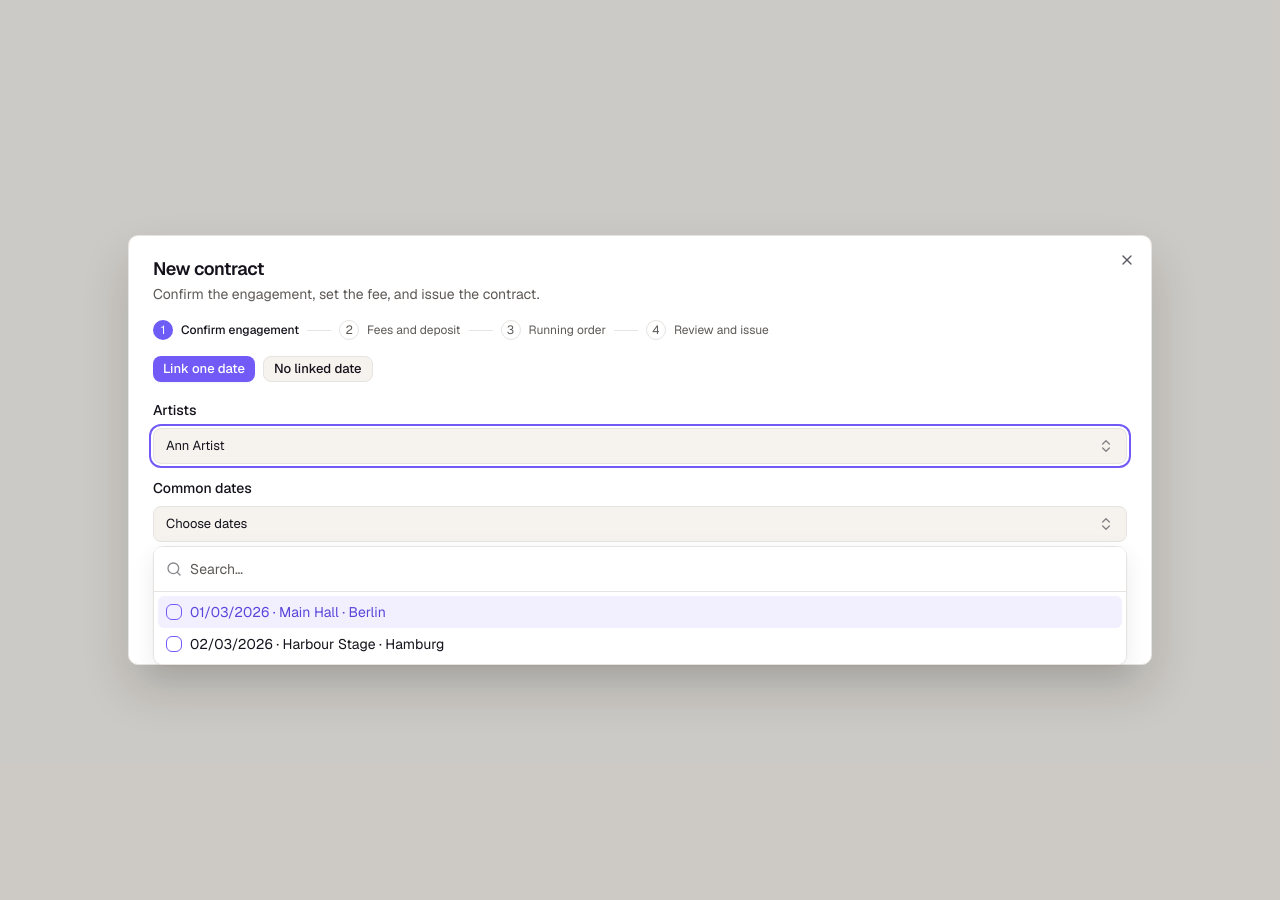
NewOrderWizard › walks a linked artist+date through to review, then saves a draft with the right payload
This screenshot has width=1280, height=900.
Earlier steps of the test are not shown.
Later steps or results of the test are not shown.
Step 1. Click the option "01/03/2026 · Main Hall · Berlin" → (288, 612), box [158,596,1122,628]
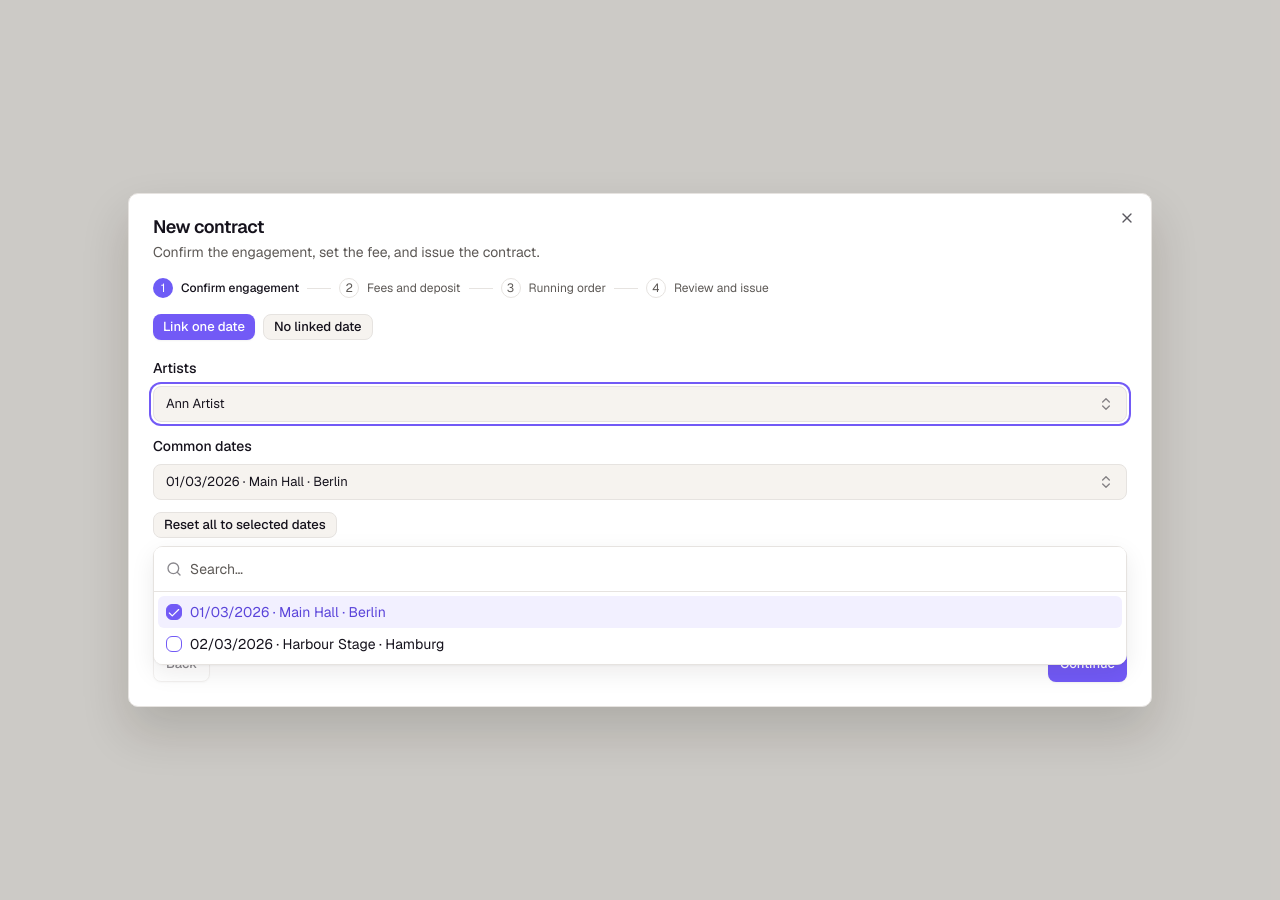
Step 2. Click the dropdown named "select date" → (257, 482), box [153,464,1127,500]
Step 3. Click the button "Reset all to selected dates" → (245, 525), box [153,512,337,538]
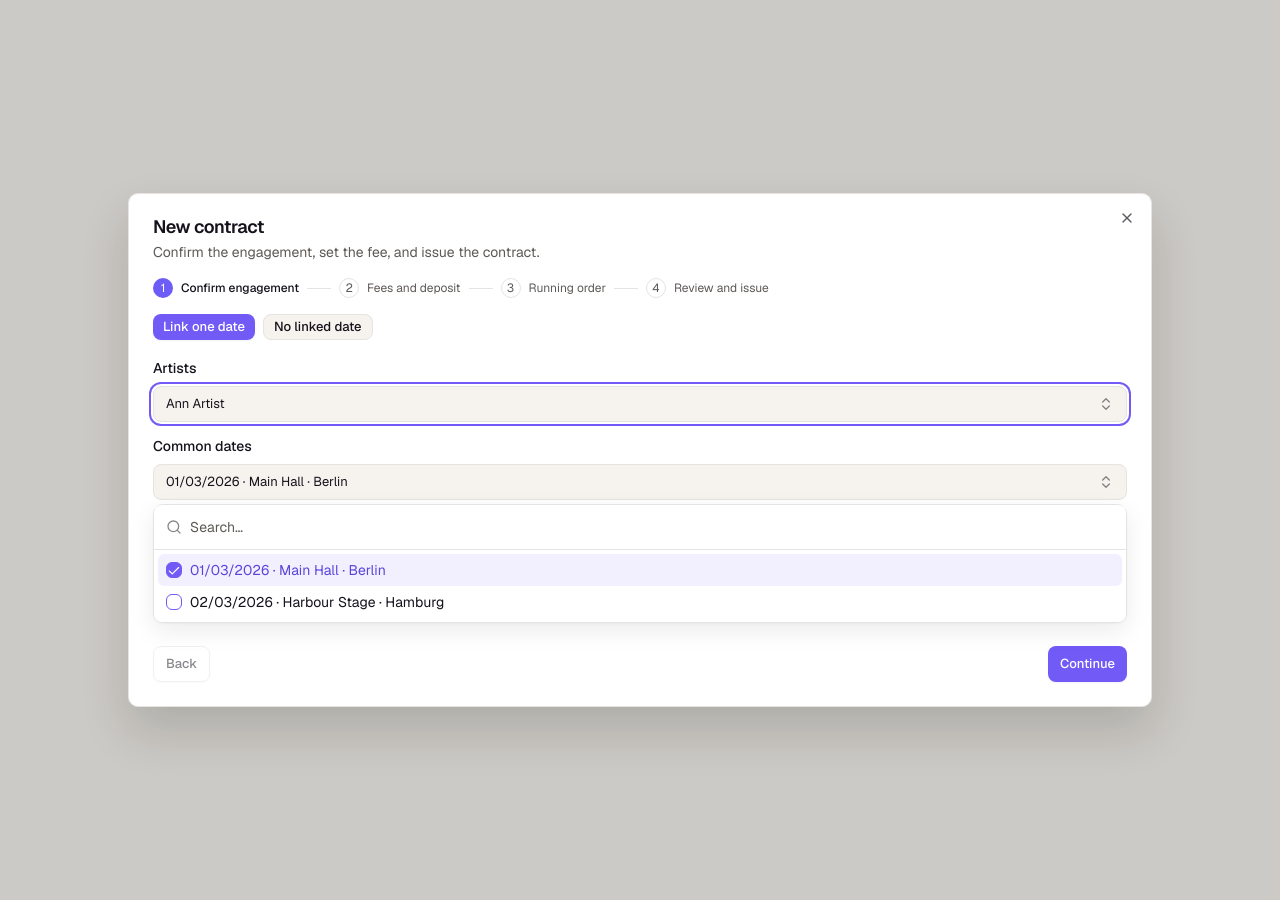
Step 4. Click the button "Continue" → (1088, 664), box [1048,646,1127,682]
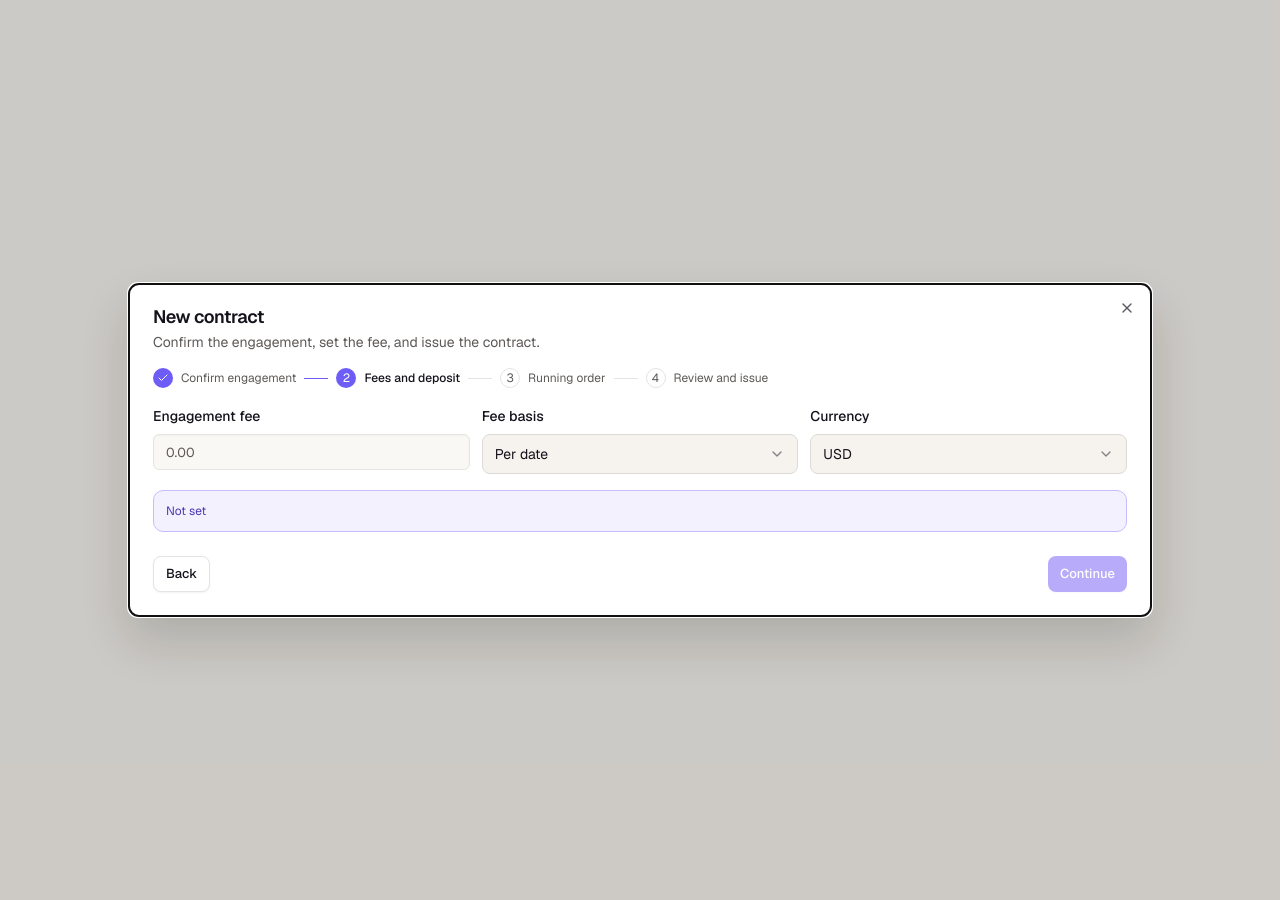
Expected: the number field labelled "Engagement fee" is shown
Step 5. Type "1200" into the number field labelled "Engagement fee" → (311, 452), box [153,434,470,470]
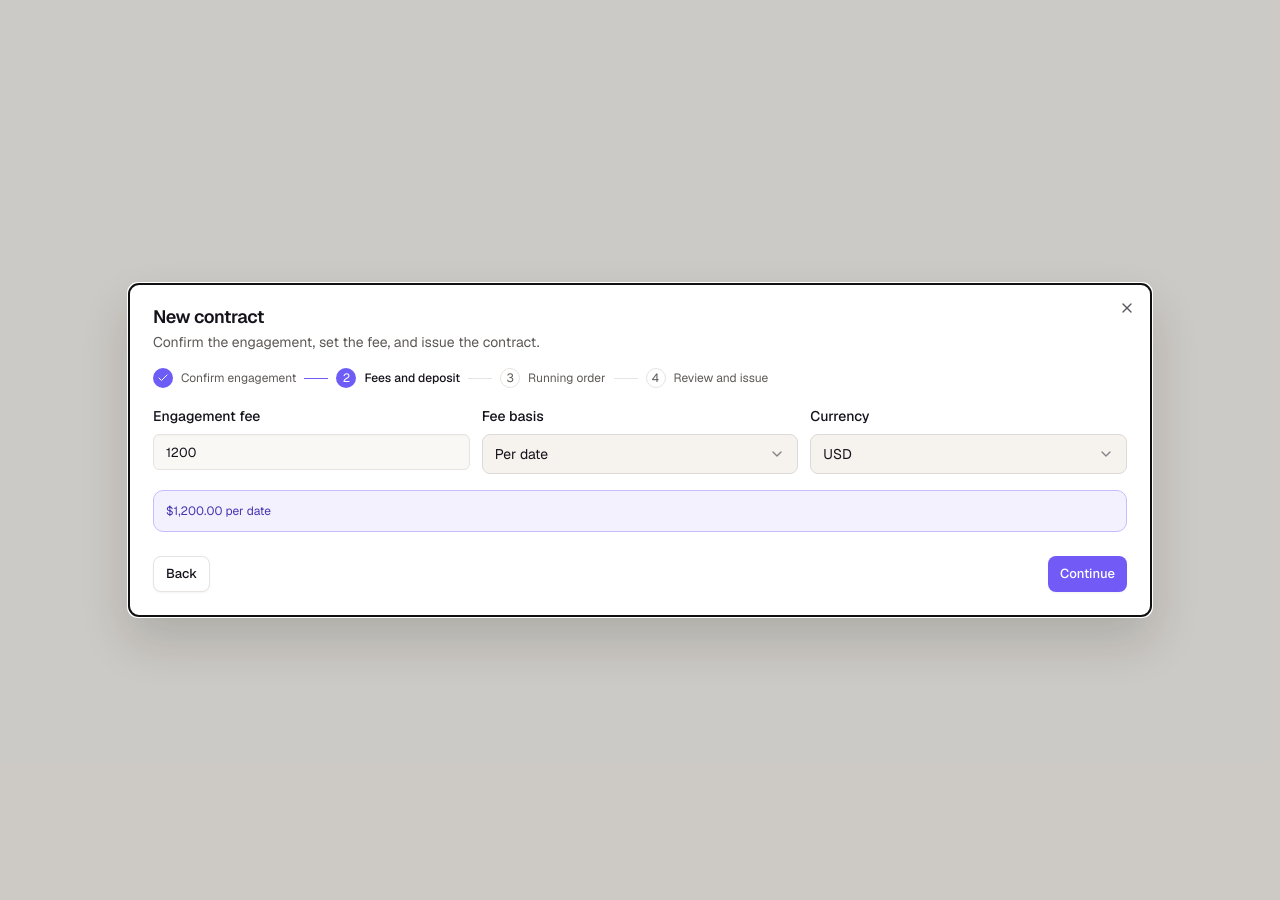
Expected: the text with test id "wiz-fee-summary" reads "$1,200.00 per date", [166,503,271,519]
Step 6. Click the button "Continue" → (1088, 574), box [1048,556,1127,592]
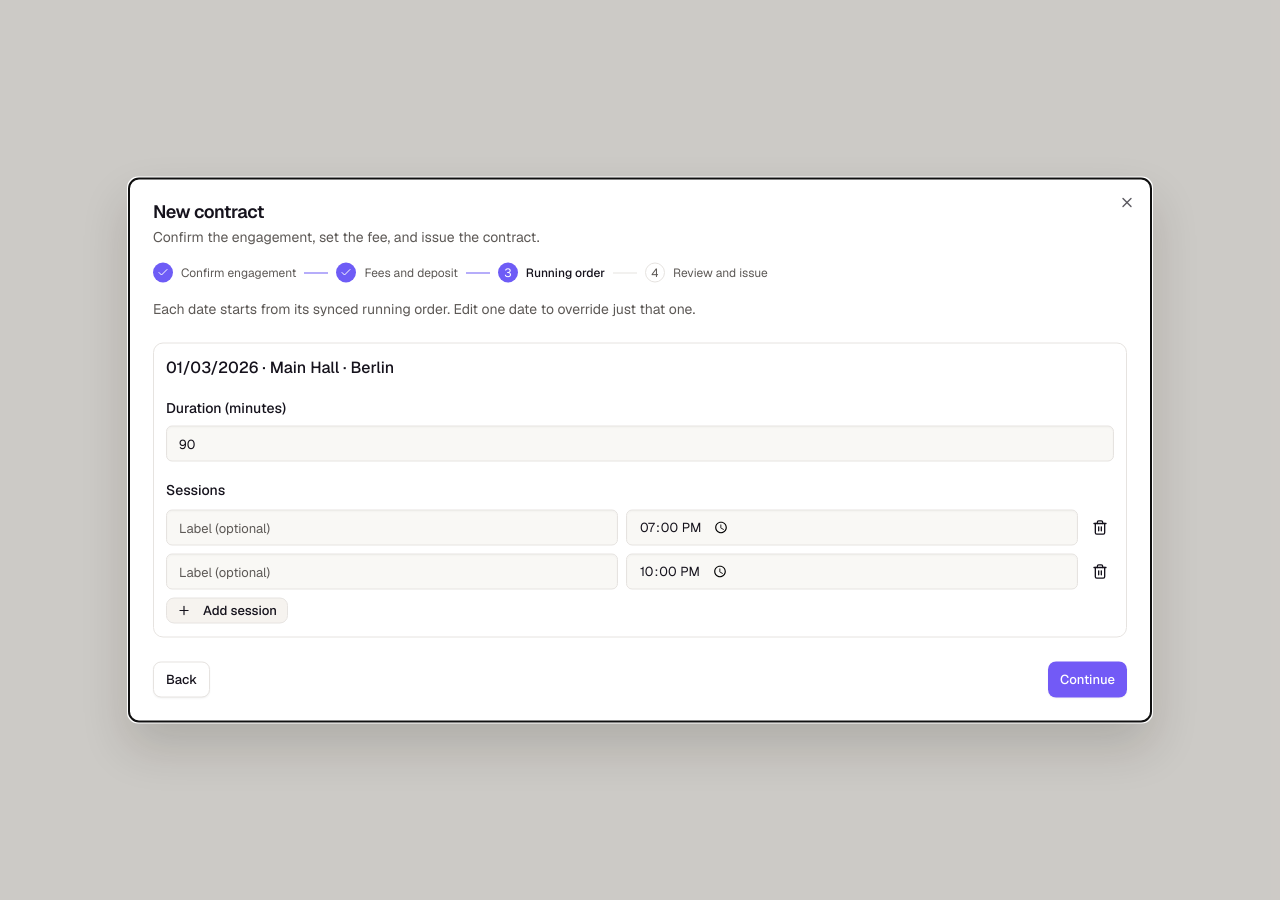
Expected: the time field named "session 1 time" holds "19:00", [626,510,1078,546]
Expected: the time field named "session 2 time" holds "22:00", [626,554,1078,590]
Expected: the number field labelled "Duration (minutes)" holds "90", [166,426,1114,462]
Step 7. Type "Main set" into the field named "session 1 label" → (392, 528), box [166,510,618,546]
Step 8. Click the button "Continue" → (1088, 680), box [1048,662,1127,698]
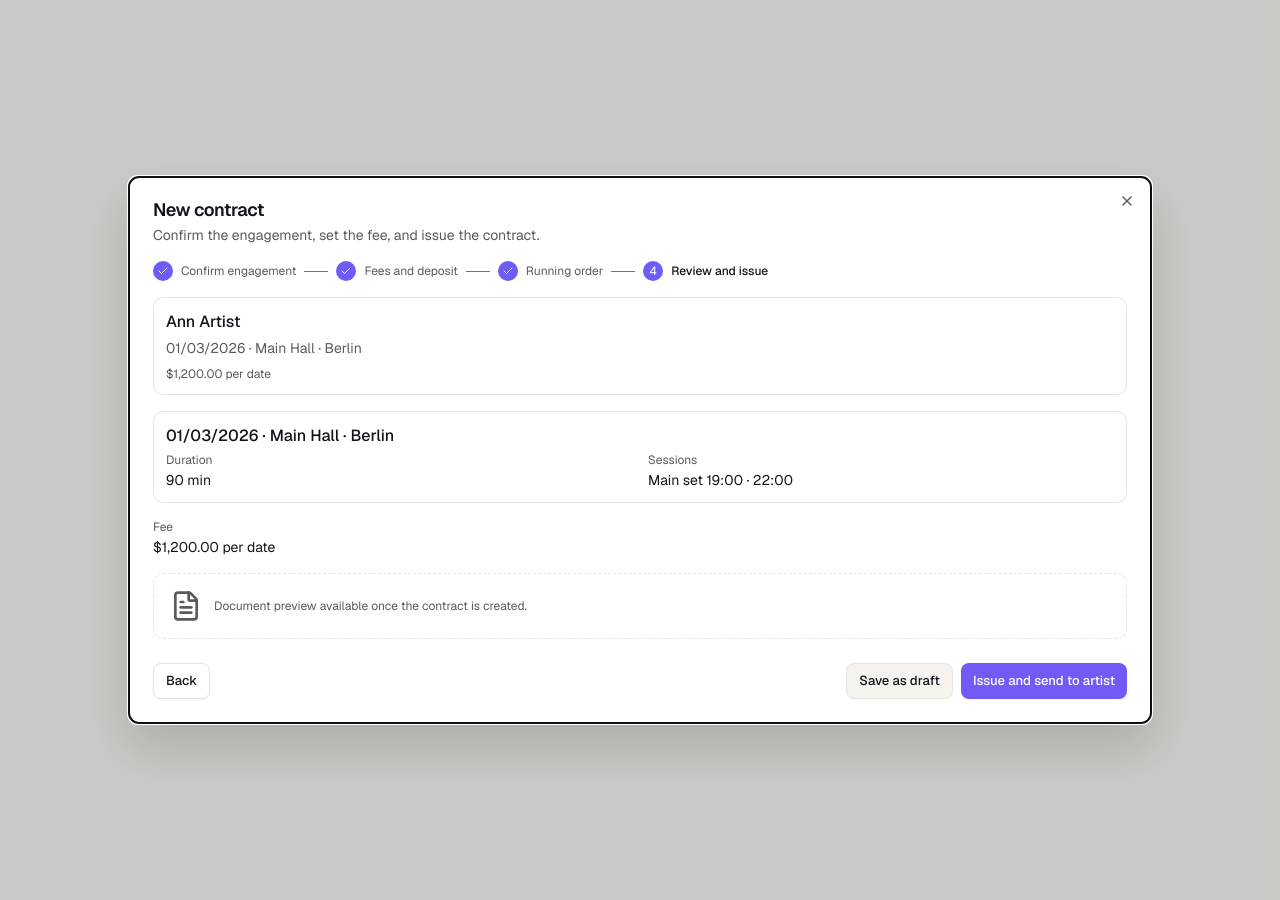
Expected: the button "Save as draft" is shown, [846,663,953,699]
Expected: the button "Issue and send to artist" is shown, [961,663,1127,699]
